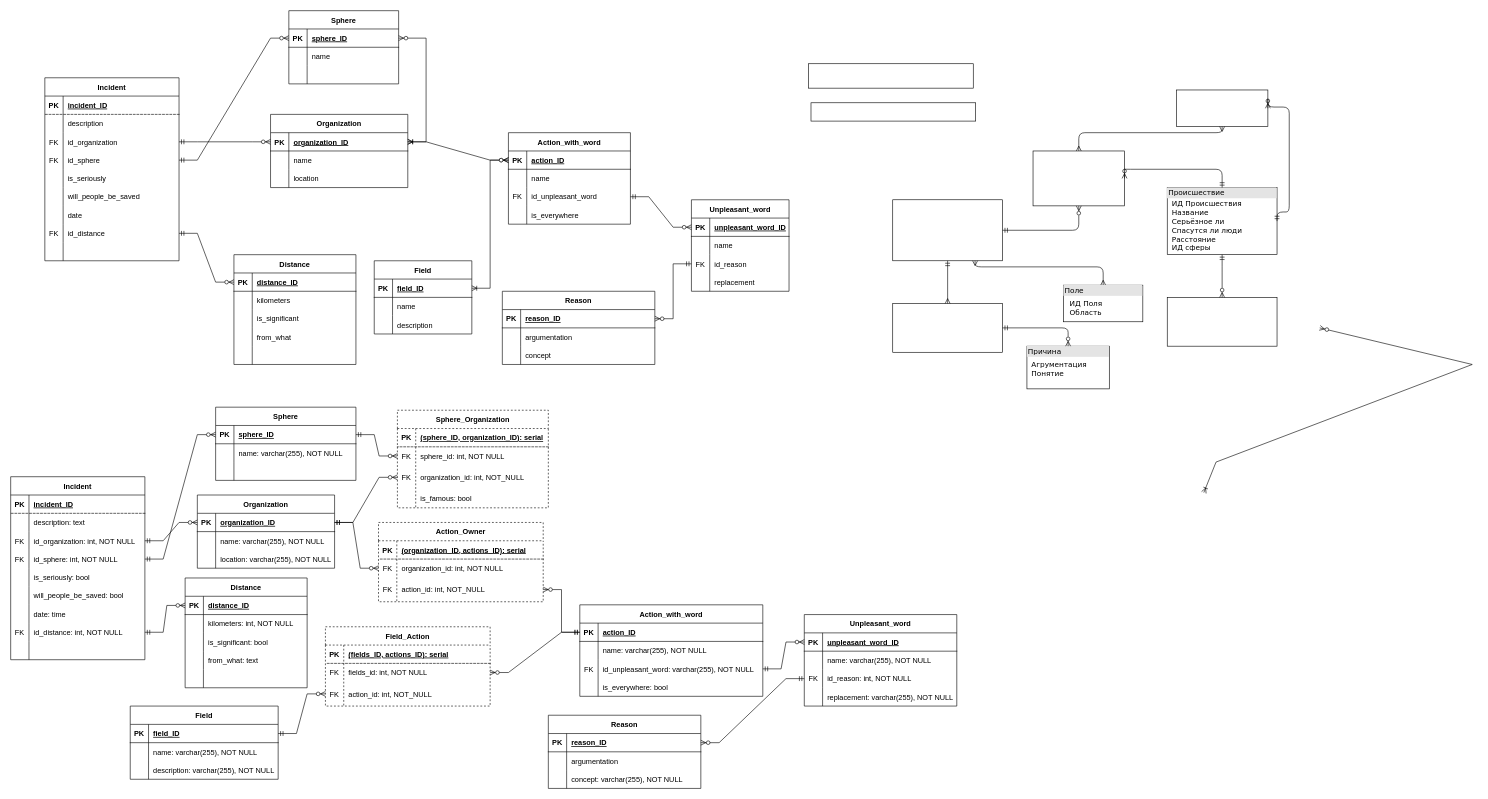
Some shapes in this 1488 by 799 pixel diagram are drawn without their labels. Here are the shapes that lost their labels. From the top down, the centre of each, then its label:
At (x=890, y=75): "Enum: похоже на, раньше означало, ассоциируется".
At (x=893, y=111): "Enum: бояться, избегать, остерегаться".
At (x=1222, y=108): "Сфера ИД Сферы Название".
At (x=1078, y=178): "Организация ИД Организации Название Местоположение ИД Сферы".
At (x=947, y=230): "Действие ИД Действия Название Везде ли ИД Непрятного слова ИД Поля".
At (x=947, y=327): "Неприятное слово Слово Общепринятая формула".
At (x=1222, y=321): "Расстояние Километры Нешуточное ли От чего".
